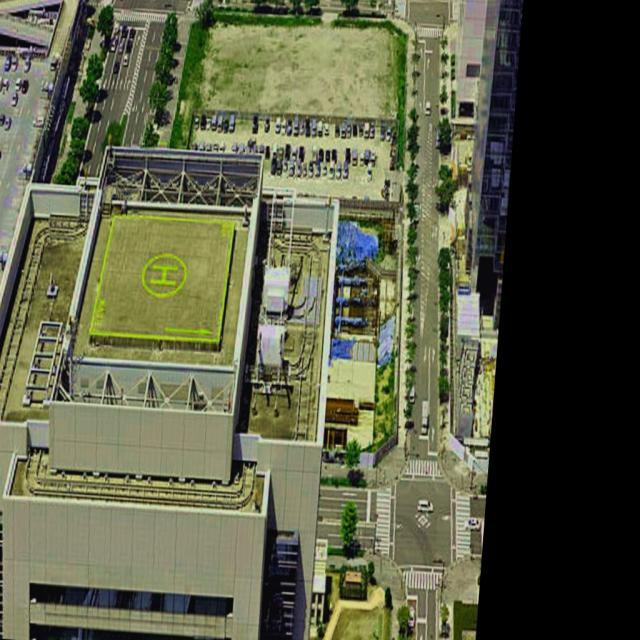helipad: (138, 250, 189, 300)
